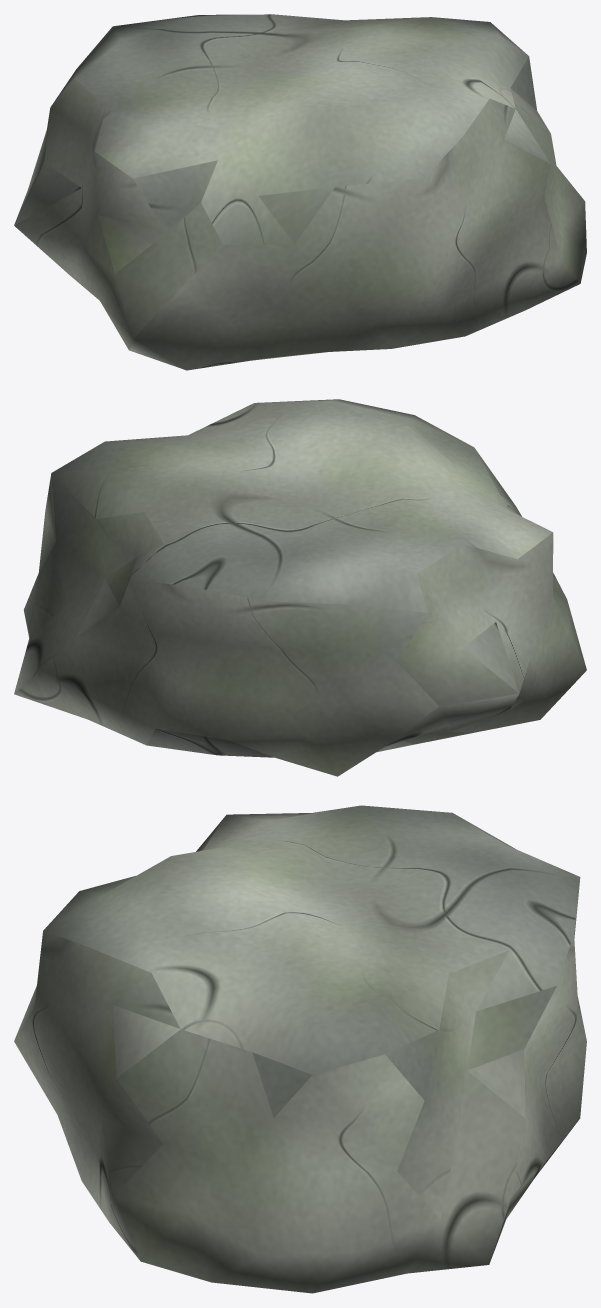
The model's file is boulder_a.glb.
3 views of the same model, one above another, from view 1: azimuth 30°, elevation 25°; view 2: azimuth 150°, elevation 25°; view 3: azimuth 270°, elevation 25° (orthographic). The views are drawn at different scales.
Parts seen in each view (by area): view 1: boulder_a; view 2: boulder_a; view 3: boulder_a.
Part boxes in pixels (x1=…): boulder_a: x1=14, y1=14, x2=586, y2=370; boulder_a: x1=14, y1=399, x2=586, y2=776; boulder_a: x1=14, y1=805, x2=586, y2=1293.
Bounding box in the file's own units: 1.38 × 0.5826 × 1.14.
1 material, 1 textured.
